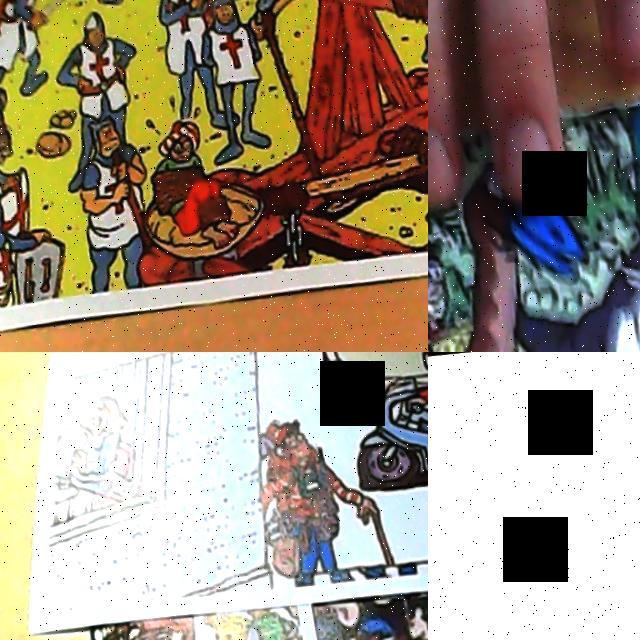waldo: (428, 223, 481, 349), (262, 405, 325, 467), (374, 620, 428, 640)
